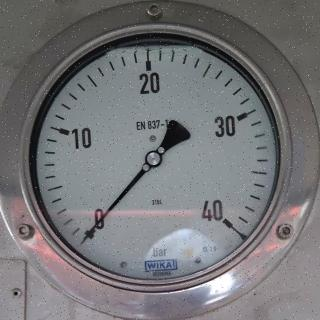gauge: (21, 20, 292, 296), (208, 204, 240, 236), (76, 213, 108, 245), (144, 148, 164, 168), (76, 233, 90, 247)
